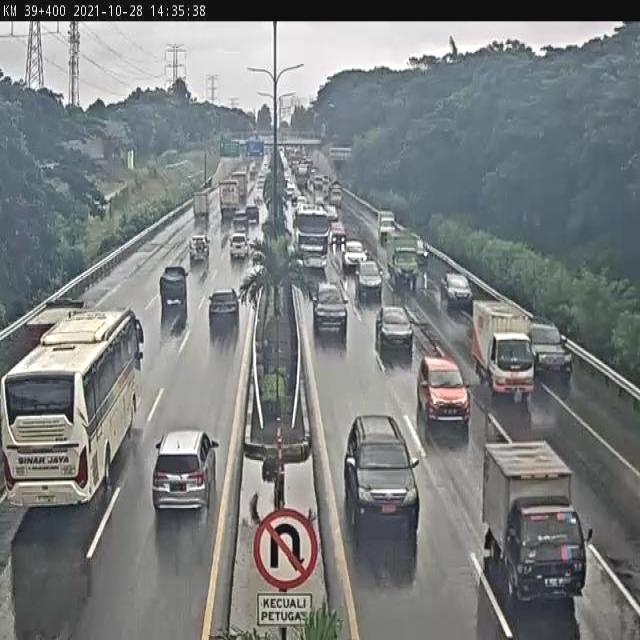Bus: (6, 302, 137, 528), (421, 3, 431, 5)
Car: (344, 416, 421, 548), (150, 428, 220, 512), (416, 354, 472, 433), (527, 322, 574, 389), (312, 282, 349, 344), (375, 304, 414, 361), (208, 288, 240, 342), (441, 272, 473, 313), (356, 261, 384, 302), (300, 257, 328, 295), (343, 240, 366, 270), (188, 234, 210, 262), (228, 232, 250, 259), (329, 221, 346, 247), (260, 154, 272, 183), (233, 209, 248, 230), (245, 204, 259, 224), (330, 185, 342, 208), (325, 204, 339, 223), (285, 182, 295, 203)
Truck: (483, 433, 592, 592), (470, 301, 533, 402), (383, 235, 426, 286), (159, 267, 189, 334), (192, 190, 210, 227), (285, 146, 307, 173), (280, 205, 293, 235), (312, 181, 327, 204), (314, 202, 329, 221), (248, 160, 258, 182), (262, 182, 272, 204), (296, 195, 308, 213), (312, 175, 324, 191), (306, 175, 314, 192), (280, 148, 288, 164)
